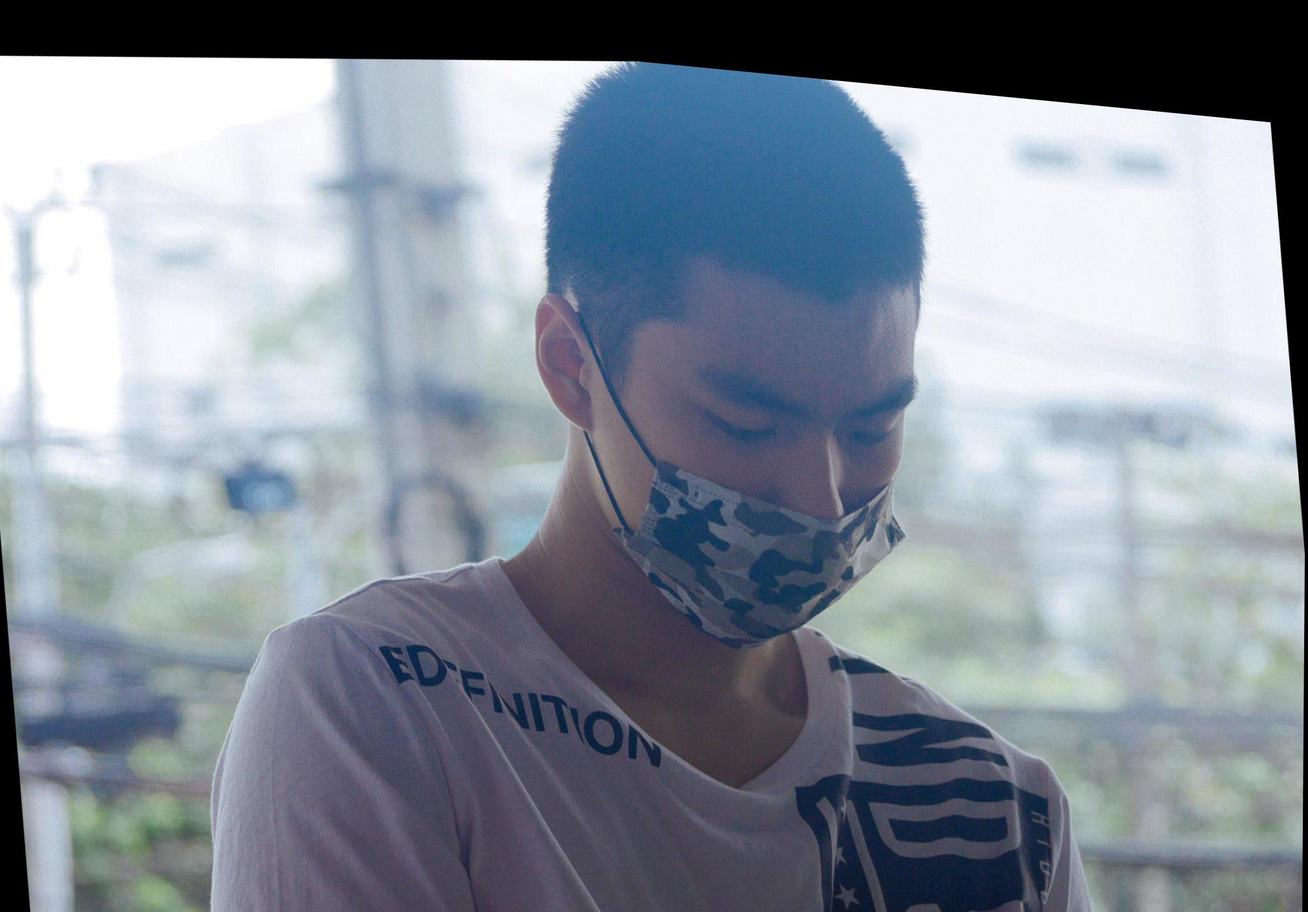WRONG: (605, 298, 932, 657)
